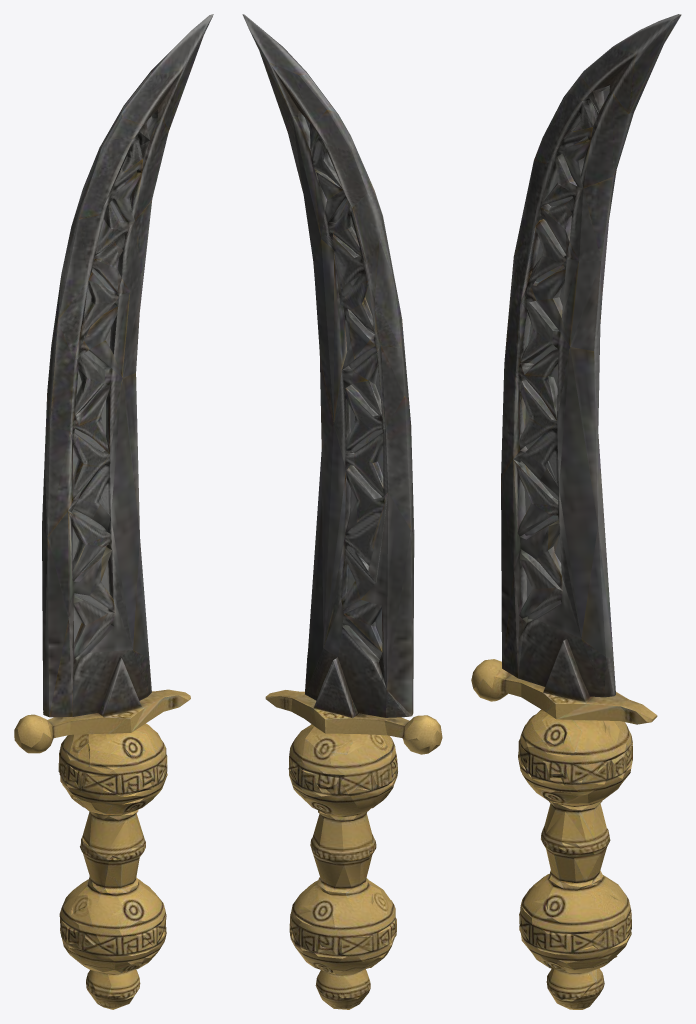
File: afena_royal.glb
The picture shows the model from 3 angles, left to right: view 1: azimuth 30°, elevation 25°; view 2: azimuth 150°, elevation 25°; view 3: azimuth 330°, elevation 25°; orthographic projection. The views are drawn at different scales.
Size of the model in its own units: 0.4032 by 1.9 by 0.1952.
Materials: 1 (1 with a texture image).
